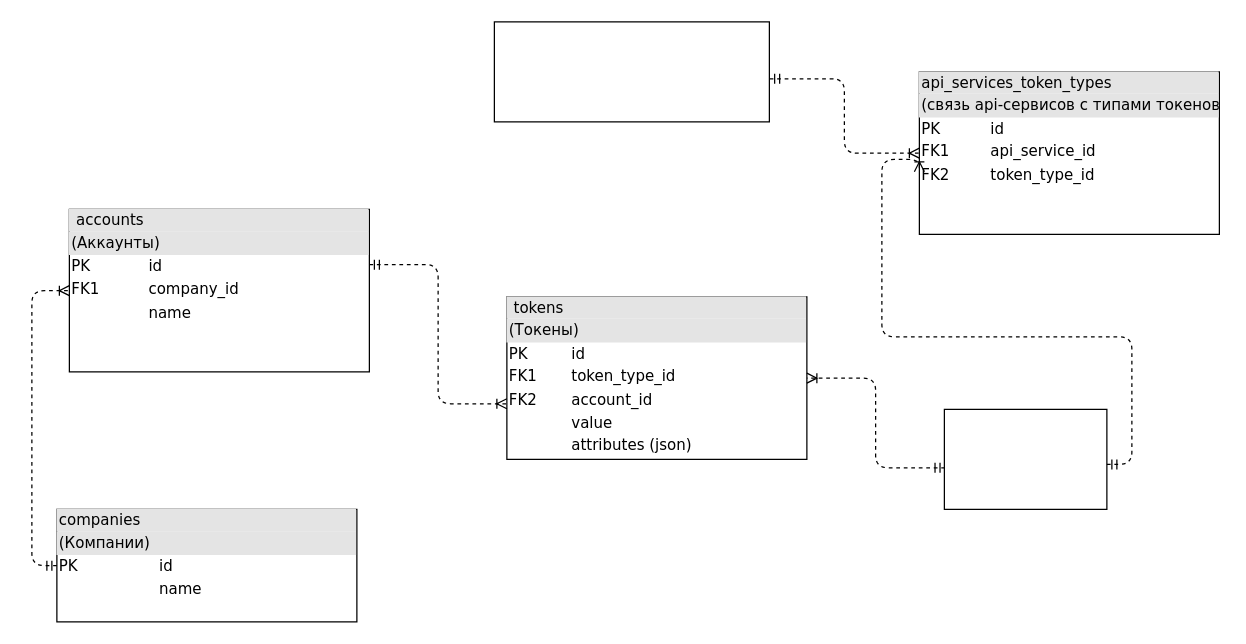
This 1246x644 diagram has some shape labels left out. Here are the shapes that lost their labels. From the top down, the box of each, then its label:
(493, 21, 769, 122): api_services (api-сервисы) PK id name
(943, 408, 1107, 509): token_types (Типы токенов) PK id name
